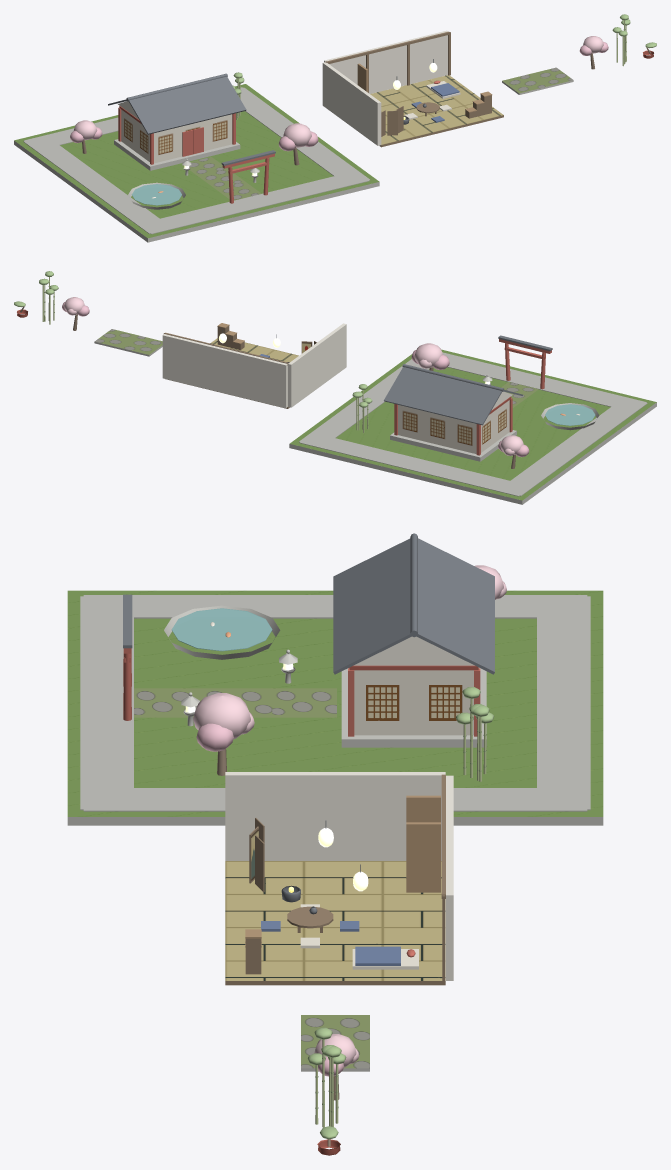
Rendered from kit-34-diorama-asia.glb.
3 views of the same model, one above another, from view 1: azimuth 30°, elevation 25°; view 2: azimuth 150°, elevation 25°; view 3: azimuth 270°, elevation 25° (orthographic). The views are drawn at different scales.
Parts seen in each view (by area): view 1: AsiaDio_Eksterior, AsiaDio_InteriorLengkap, AsiaDio_JalanBatu, AsiaDio_TanamanKhas; view 2: AsiaDio_Eksterior, AsiaDio_InteriorLengkap, AsiaDio_TanamanKhas, AsiaDio_JalanBatu; view 3: AsiaDio_Eksterior, AsiaDio_InteriorLengkap, AsiaDio_TanamanKhas, AsiaDio_JalanBatu.
Part boxes in pixels (box(x1,y1,x2,y2)): AsiaDio_Eksterior: box(14, 72, 379, 242); AsiaDio_InteriorLengkap: box(322, 30, 503, 147); AsiaDio_JalanBatu: box(502, 67, 573, 94); AsiaDio_TanamanKhas: box(579, 14, 656, 69); AsiaDio_Eksterior: box(289, 335, 656, 504); AsiaDio_InteriorLengkap: box(162, 323, 346, 408); AsiaDio_TanamanKhas: box(14, 271, 89, 330); AsiaDio_JalanBatu: box(94, 329, 162, 356); AsiaDio_Eksterior: box(67, 533, 603, 825); AsiaDio_InteriorLengkap: box(225, 772, 453, 985); AsiaDio_TanamanKhas: box(307, 1027, 359, 1155); AsiaDio_JalanBatu: box(301, 1015, 369, 1071).
Bounding box in the file's own units: 42.12 × 4.58 × 17.
24 materials, 5 textured.
